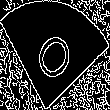O_SW: (31, 23, 79, 87)
